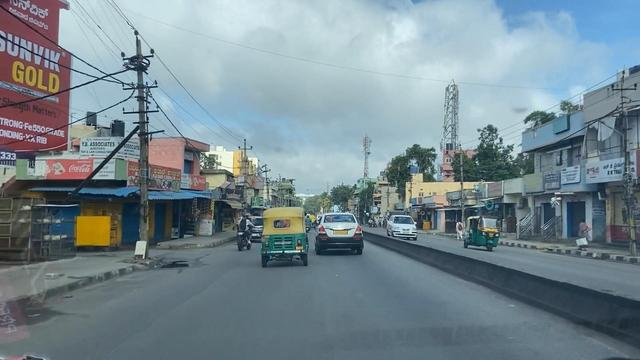LMV: (260, 208, 309, 265), (314, 213, 368, 257)
